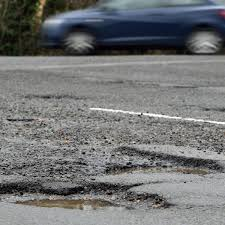pothole: (1, 144, 225, 211)
